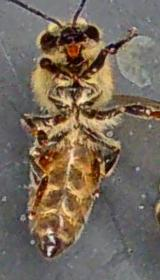varroa_mite: (28, 135, 58, 170)
